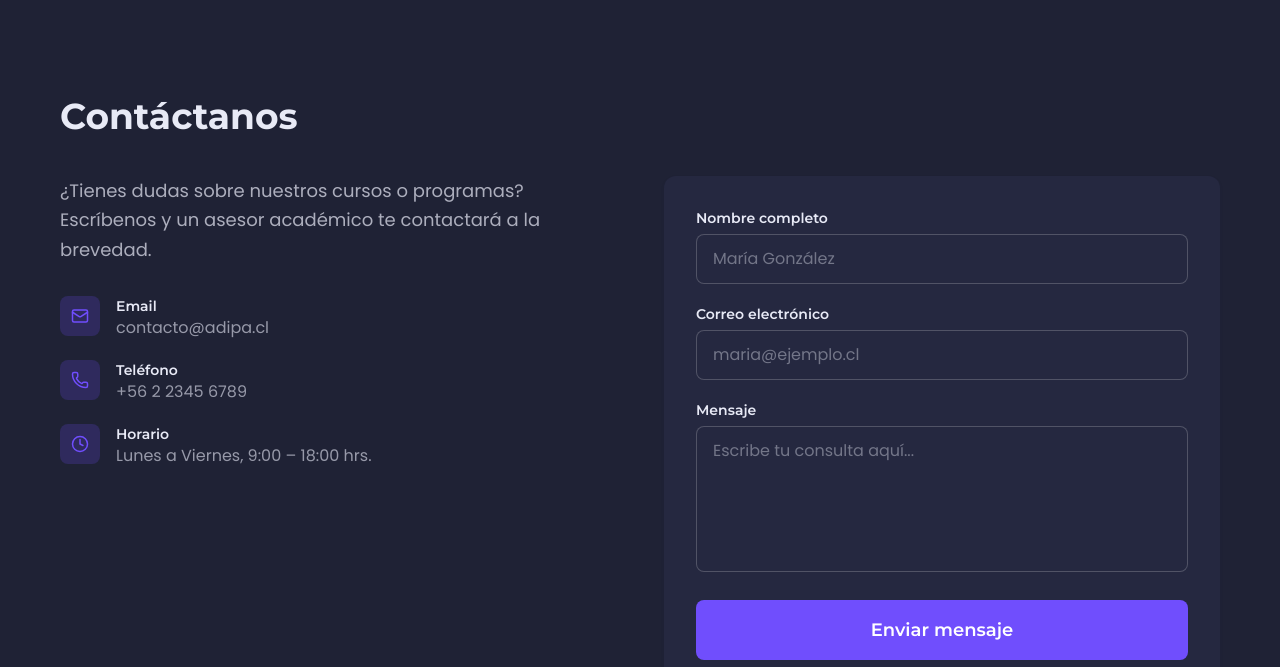
Scenario: ContactForm — validation › shows validation errors for all fields when submitting an empty form
This screenshot has width=1280, height=667.
Step 1. Click the button "Enviar mensaje" → [942, 630], box [696,600,1188,660]
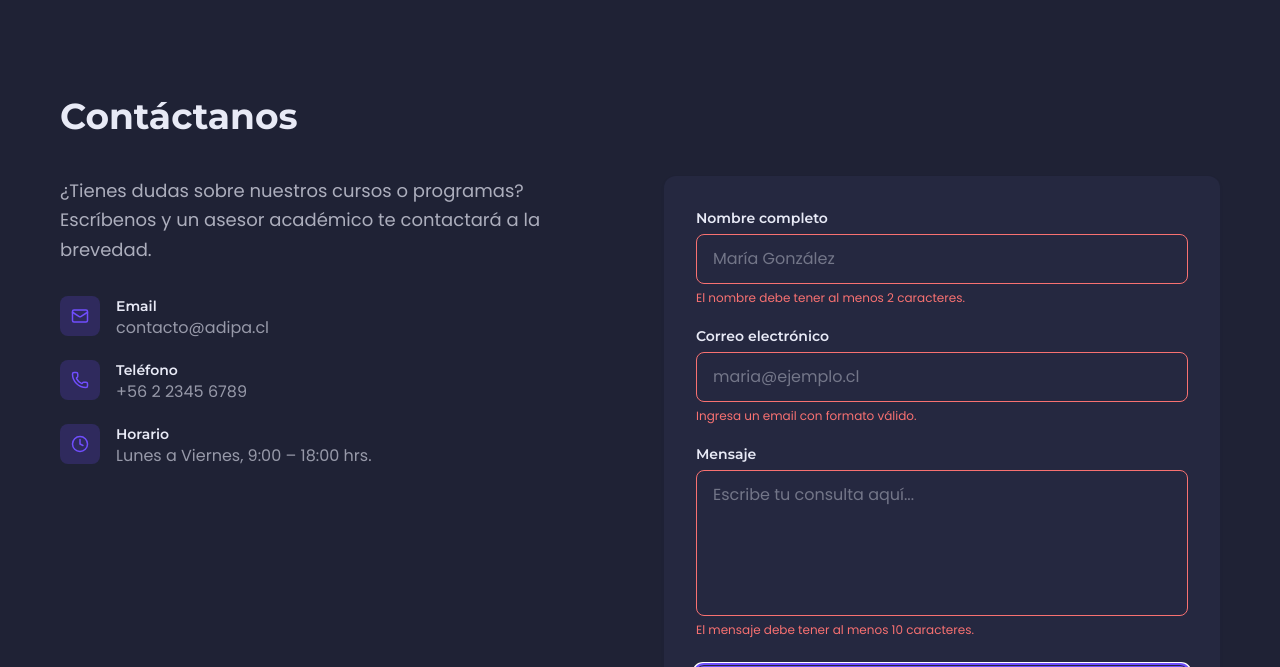
Expected: the number of messages is 3, [696,289,965,306]; [696,407,917,424]; [696,621,974,638]
Expected: the text "El nombre debe tener al menos 2 caracteres." is shown, [696,289,965,306]
Expected: the text "Ingresa un email con formato válido." is shown, [696,407,917,424]
